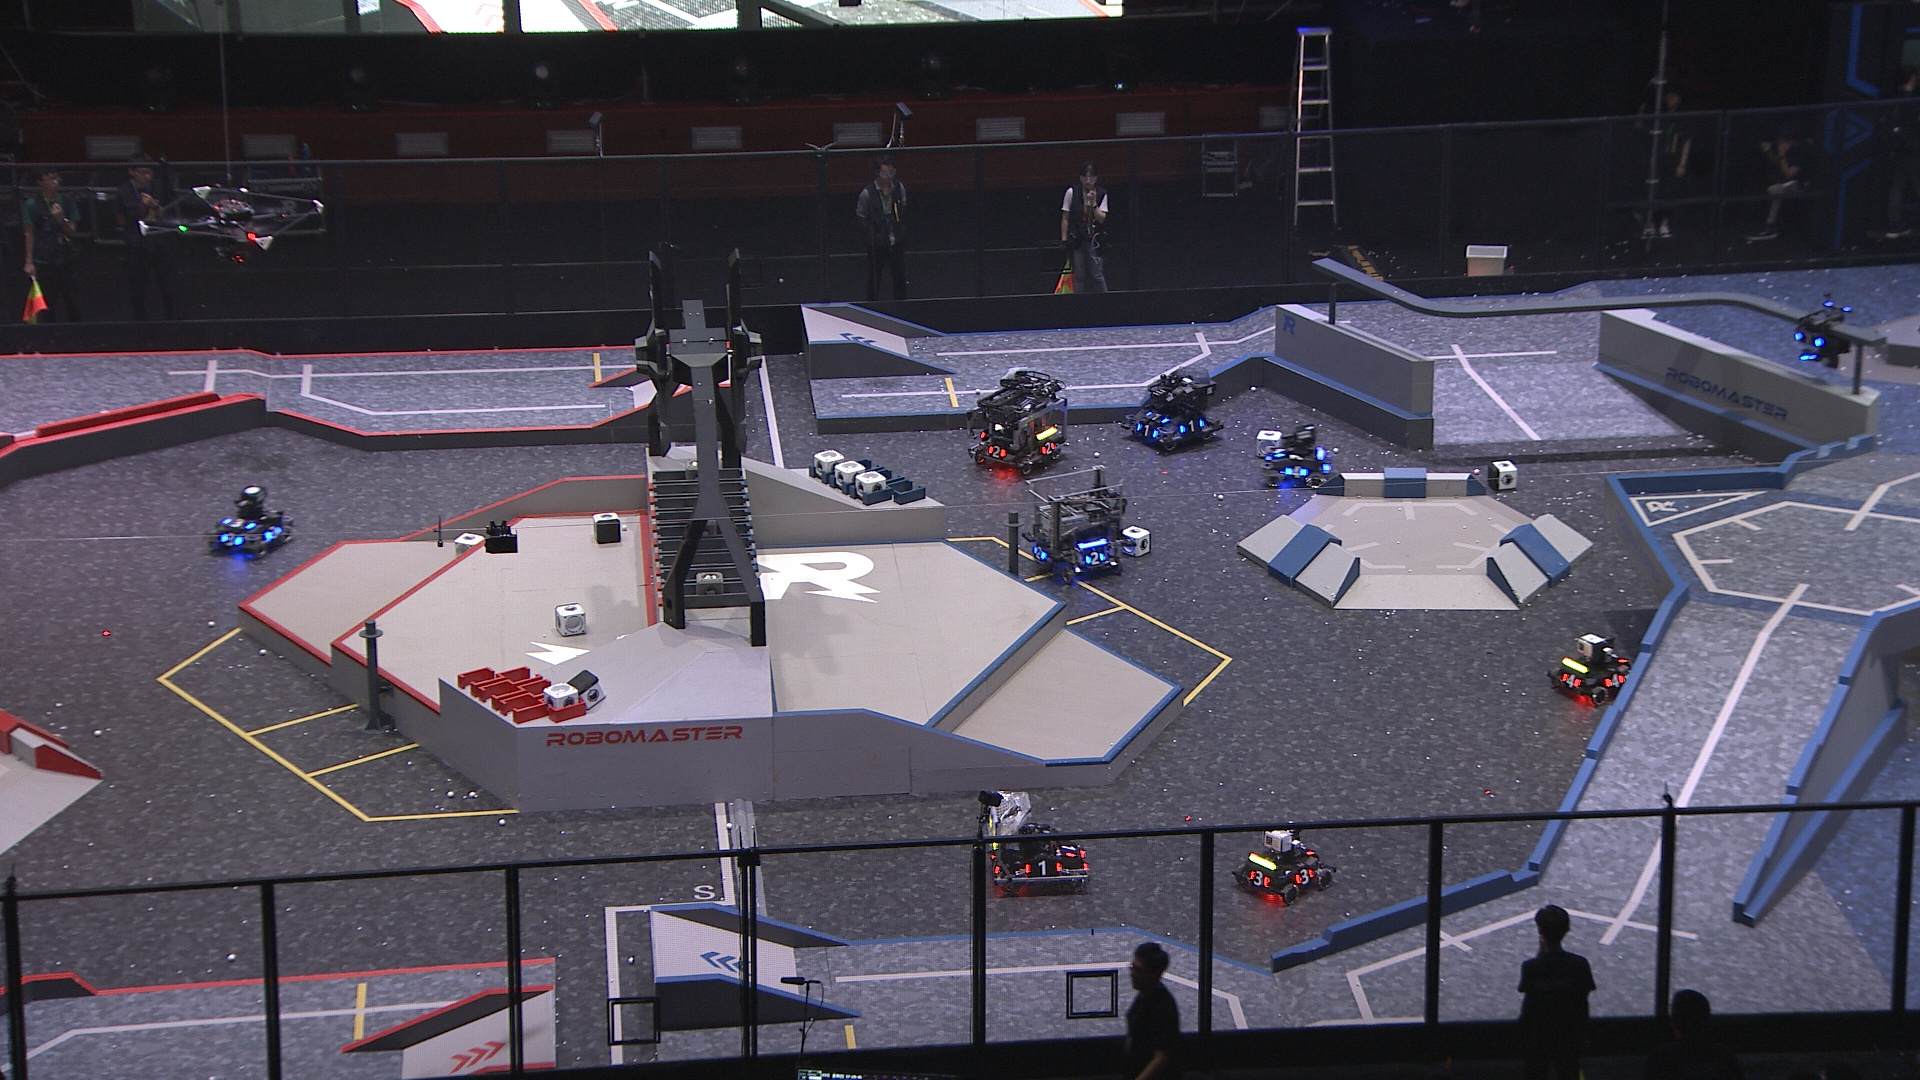armor: (1022, 858, 1064, 876), (1793, 330, 1825, 348), (1178, 418, 1207, 436), (1560, 670, 1582, 692), (1247, 870, 1273, 889), (1133, 423, 1160, 439), (222, 517, 258, 529), (220, 531, 245, 549), (1294, 866, 1313, 887), (1604, 671, 1626, 690), (1083, 549, 1106, 566), (264, 524, 284, 543), (986, 443, 1007, 462), (1145, 410, 1171, 425), (1282, 465, 1307, 480), (1062, 839, 1077, 860), (1039, 440, 1058, 458), (1031, 545, 1046, 564), (1273, 443, 1287, 460)
car: (1025, 465, 1129, 583), (986, 787, 1091, 895), (965, 367, 1068, 475), (1117, 371, 1224, 452), (1229, 825, 1337, 902), (1544, 632, 1633, 705), (206, 485, 291, 560), (1259, 419, 1335, 491)
watcher: (1789, 291, 1859, 371)
